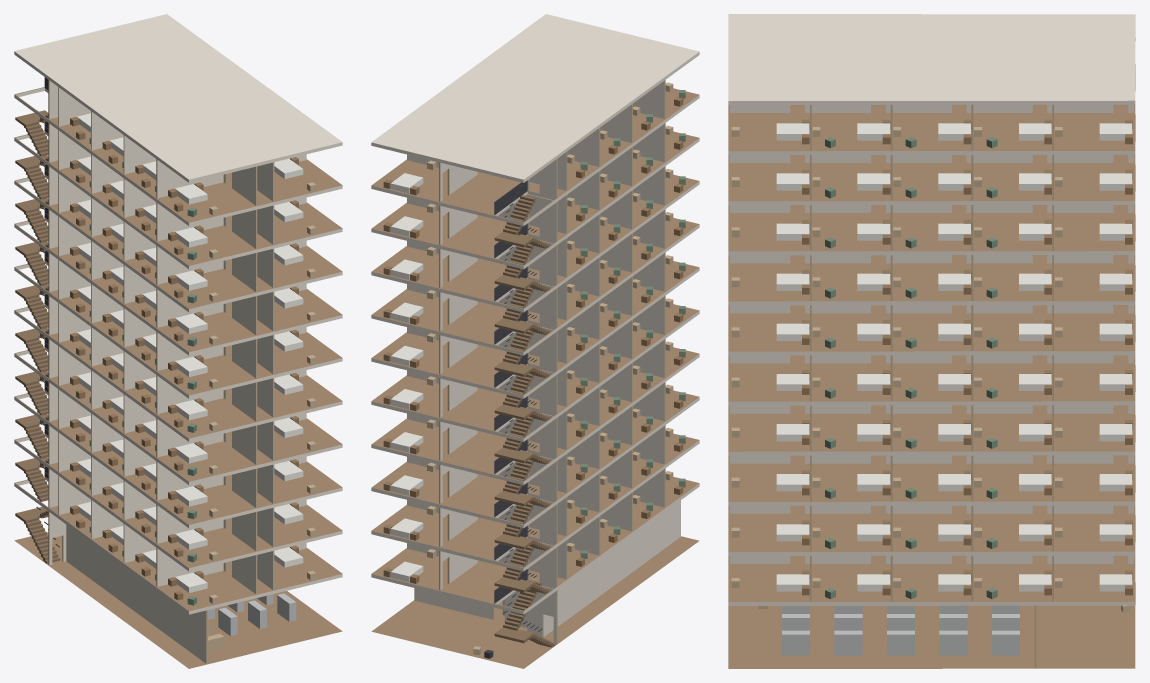
The model's file is interior.glb.
3 renders of one model, left to right at view 1: azimuth 30°, elevation 25°; view 2: azimuth 150°, elevation 25°; view 3: azimuth 270°, elevation 25°, orthographic. The views are drawn at different scales.
Parts seen in each view (by area): view 1: slabs, partitions, stair, coarse-s9, coarse-s8, coarse-s2, coarse-s3, coarse-s5, coarse-s6, coarse-s7, coarse-s1, coarse-s4 (+2 smaller); view 2: slabs, partitions, stair, coarse-s6, coarse-s7, coarse-s1, coarse-s8, coarse-s2, coarse-s9, coarse-s3, coarse-s10, coarse-s4 (+1 smaller); view 3: slabs, partitions, coarse-s0, coarse-s8, coarse-s3, coarse-s7, coarse-s2, coarse-s9, coarse-s1, coarse-s4, coarse-s6, coarse-s10 (+1 smaller).
Boxes of the visible parts, x1,y1,x2,y2 form: slabs: [14, 14, 342, 668]; partitions: [48, 80, 306, 663]; stair: [15, 77, 60, 563]; coarse-s9: [70, 156, 316, 260]; coarse-s8: [70, 199, 316, 303]; coarse-s2: [70, 458, 316, 562]; coarse-s3: [70, 415, 316, 519]; coarse-s5: [70, 329, 316, 432]; coarse-s6: [70, 286, 316, 389]; coarse-s7: [70, 243, 316, 346]; coarse-s1: [70, 502, 316, 605]; coarse-s4: [70, 372, 316, 475]; slabs: [371, 14, 699, 668]; partitions: [407, 80, 680, 644]; stair: [494, 180, 555, 647]; coarse-s6: [383, 255, 685, 367]; coarse-s7: [383, 212, 685, 324]; coarse-s1: [383, 471, 685, 583]; coarse-s8: [383, 169, 685, 281]; coarse-s2: [383, 428, 685, 540]; coarse-s9: [383, 125, 685, 238]; coarse-s3: [383, 384, 685, 497]; coarse-s10: [383, 82, 685, 195]; coarse-s4: [383, 341, 685, 454]; slabs: [728, 14, 1135, 668]; partitions: [730, 104, 1133, 668]; coarse-s0: [758, 605, 1130, 655]; coarse-s8: [731, 219, 1132, 248]; coarse-s3: [731, 470, 1132, 498]; coarse-s7: [731, 269, 1132, 298]; coarse-s2: [731, 520, 1132, 548]; coarse-s9: [731, 169, 1132, 198]; coarse-s1: [731, 570, 1132, 599]; coarse-s4: [731, 420, 1132, 448]; coarse-s6: [731, 320, 1132, 348]; coarse-s10: [731, 119, 1132, 148].
Bounding box in the file's own units: 12.57 × 38.22 × 24.82.
